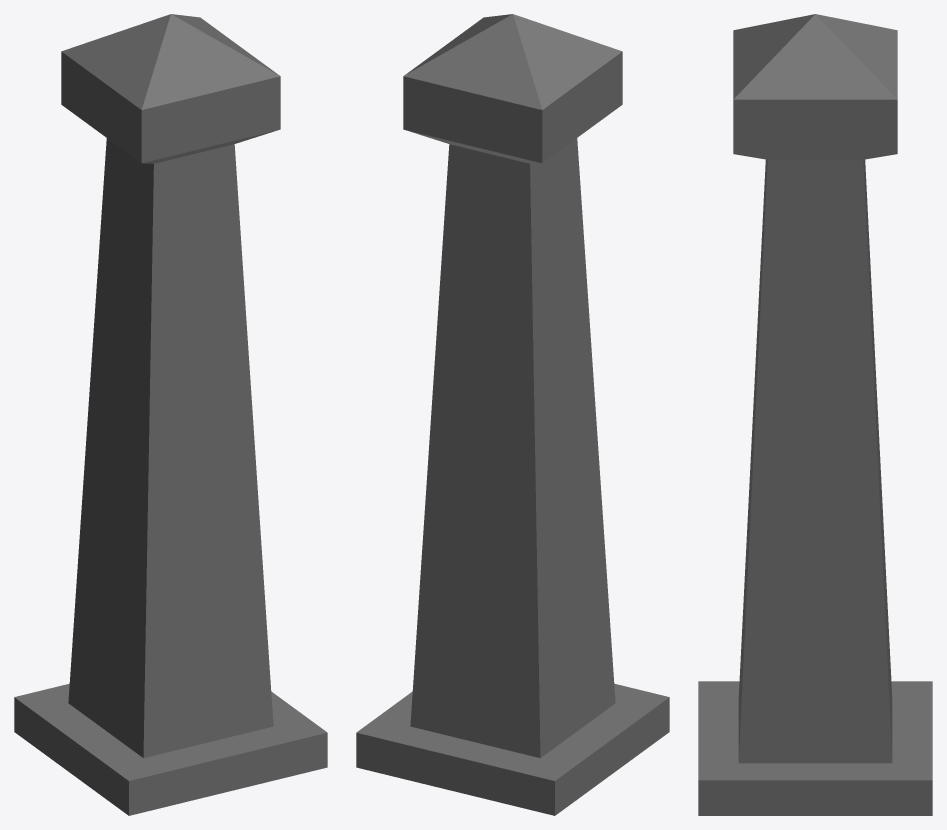
File: StoneUpper1.glb
3 views of the same model, side by side, from view 1: azimuth 30°, elevation 25°; view 2: azimuth 150°, elevation 25°; view 3: azimuth 270°, elevation 25° (orthographic). The views are drawn at different scales.
Visible parts, largest first — view 1: Cube; view 2: Cube; view 3: Cube.
Part boxes in pixels (x1,y1,x2,y2): Cube: [14, 14, 327, 815]; Cube: [356, 14, 669, 815]; Cube: [698, 14, 932, 815].
Bounding box in the file's own units: 2 × 7.08 × 2.
Materials: 1 (1 with a texture image).
